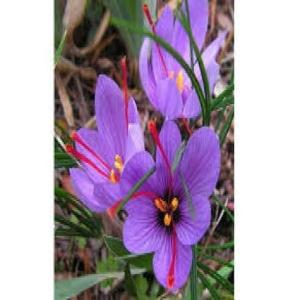Saffron: (112, 125, 223, 292), (140, 0, 225, 122), (74, 76, 152, 208)
